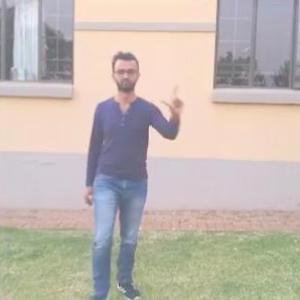land_hand: (158, 80, 193, 116)
